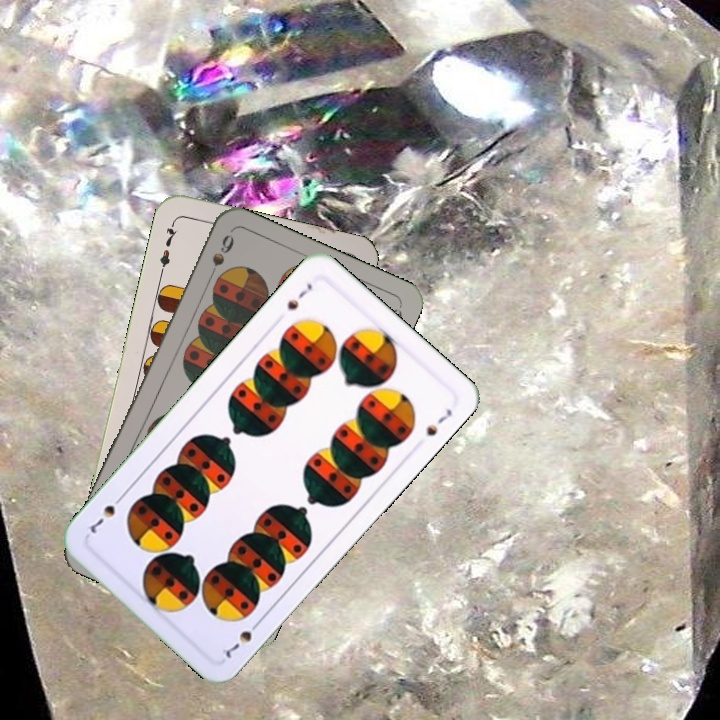E7: (155, 217, 180, 276)
S7: (221, 615, 264, 662), (283, 279, 315, 313)
S9: (203, 230, 237, 285)
